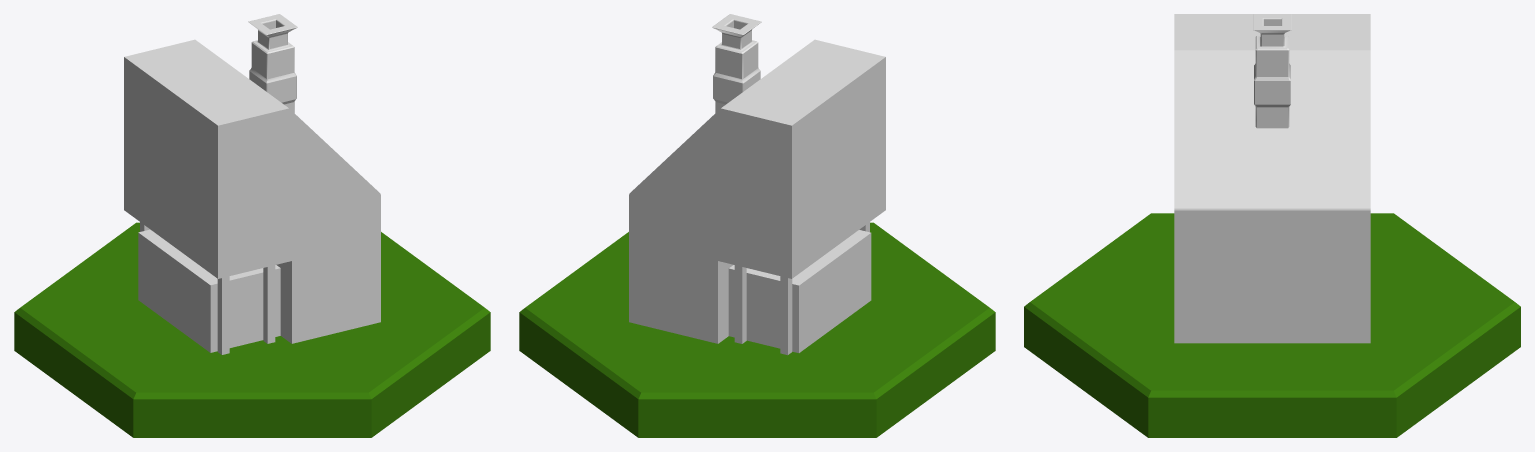
Rendered from plain_grass_formation_house_tile2.fbx.
3 views of the same model, side by side, from view 1: azimuth 30°, elevation 25°; view 2: azimuth 150°, elevation 25°; view 3: azimuth 270°, elevation 25° (orthographic). The views are drawn at different scales.
Visible parts, largest first — view 1: Cube_Low, Cylinder; view 2: Cube_Low, Cylinder; view 3: Cube_Low, Cylinder.
Boxes of the visible parts, x1,y1,x2,y2 form: Cube_Low: (124,14,380,354); Cylinder: (14,222,490,437); Cube_Low: (629,14,885,355); Cylinder: (519,222,995,437); Cube_Low: (1174,14,1370,343); Cylinder: (1024,213,1520,437).
Size of the model in its own units: 1.73 by 1.49 by 2.
